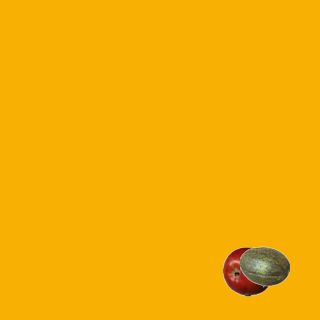Apple Braeburn: (222, 246, 272, 296)
Melon Piel de Sapo: (239, 241, 289, 291)
